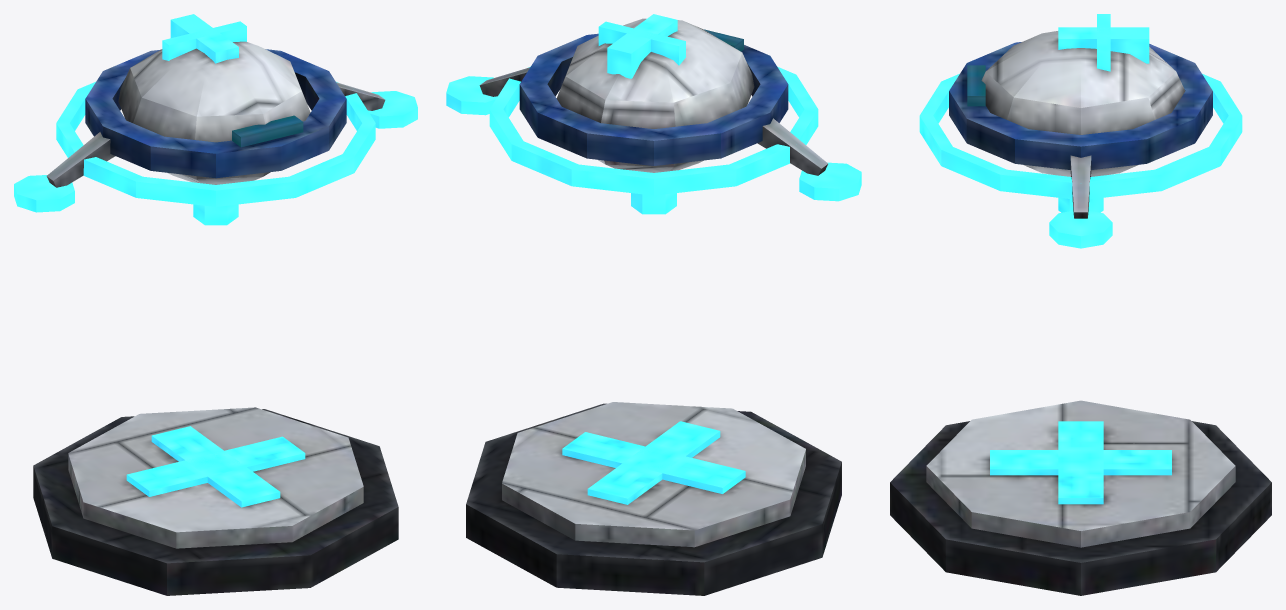
File: u_medic2_w.glb
3 renders of one model, left to right at view 1: azimuth 30°, elevation 25°; view 2: azimuth 150°, elevation 25°; view 3: azimuth 270°, elevation 25°, orthographic. The views are drawn at different scales.
Parts seen in each view (by area): view 1: u_medic2_w; view 2: u_medic2_w; view 3: u_medic2_w.
Part boxes in pixels (bbox=[...]): u_medic2_w: bbox=[14, 14, 417, 595]; u_medic2_w: bbox=[446, 14, 861, 595]; u_medic2_w: bbox=[890, 14, 1271, 595].
Bounding box in the file's own units: 1.12 × 1.29 × 0.924.
1 material, 1 textured.
